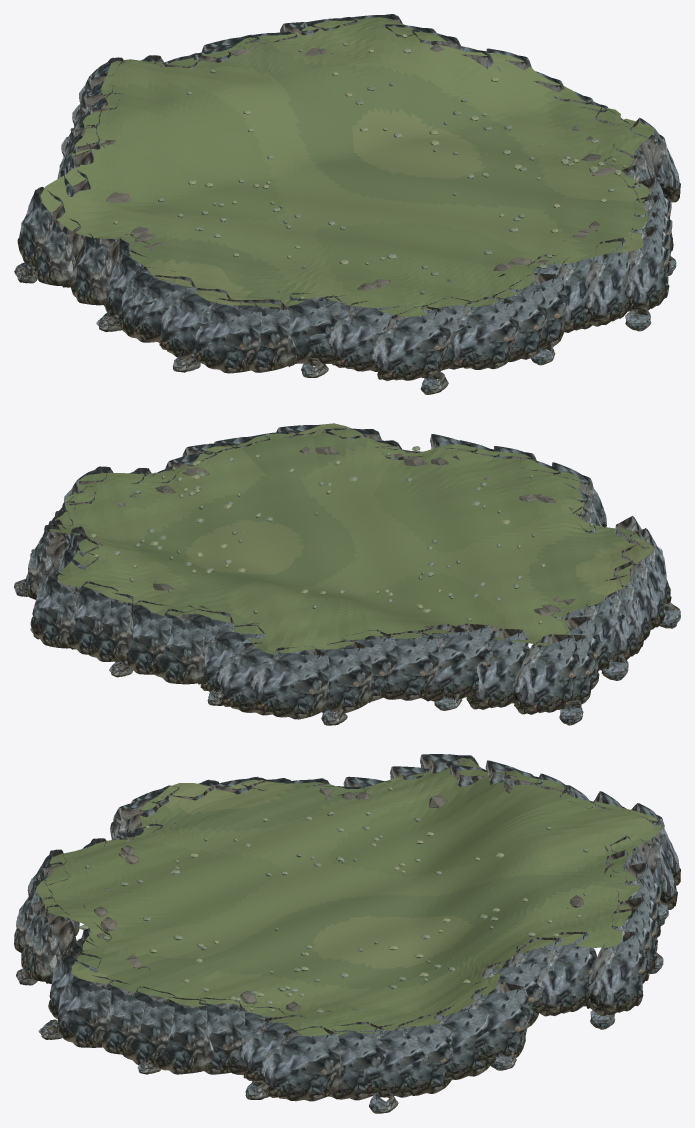
File: ValoriaEnvironmentCandidate.glb
The picture shows the model from 3 angles, top to bottom: view 1: azimuth 30°, elevation 25°; view 2: azimuth 150°, elevation 25°; view 3: azimuth 270°, elevation 25°; orthographic projection. The views are drawn at different scales.
Visible parts, largest first — view 1: Valoria Highlands - Blender sculpted environment, CC0 directed cliff course 36, CC0 directed cliff course 31, CC0 directed cliff course 38, CC0 directed cliff course 43, CC0 directed cliff course 35, CC0 directed cliff course 44, CC0 directed cliff course 32, CC0 directed cliff course 30, CC0 directed cliff course 25, CC0 directed cliff course 24, CC0 directed cliff course 33 (+14 smaller); view 2: Valoria Highlands - Blender sculpted environment, CC0 directed cliff course 16, CC0 directed cliff course 23, CC0 directed cliff course 22, CC0 directed cliff course 17, CC0 directed cliff course 21, CC0 directed cliff course 19, CC0 directed cliff course 12, CC0 directed cliff course 08, CC0 directed cliff course 15, CC0 directed cliff course 11, CC0 directed cliff course 10 (+14 smaller); view 3: Valoria Highlands - Blender sculpted environment, CC0 directed cliff course 51, CC0 directed cliff course 08, CC0 directed cliff course 04, CC0 directed cliff course 07, CC0 directed cliff course 44, CC0 directed cliff course 47, CC0 directed cliff course 02, CC0 directed cliff course 01, CC0 directed cliff course 00, CC0 directed cliff course 03, CC0 directed cliff course 46 (+17 smaller).
Part boxes in pixels (x1,y1,x2,y2): Valoria Highlands - Blender sculpted environment: [40, 17, 654, 316]; CC0 directed cliff course 36: [370, 305, 451, 381]; CC0 directed cliff course 31: [195, 298, 262, 373]; CC0 directed cliff course 38: [452, 296, 519, 369]; CC0 directed cliff course 43: [581, 237, 633, 326]; CC0 directed cliff course 35: [327, 300, 399, 371]; CC0 directed cliff course 44: [624, 225, 669, 313]; CC0 directed cliff course 32: [237, 299, 297, 372]; CC0 directed cliff course 30: [159, 287, 233, 363]; CC0 directed cliff course 25: [70, 233, 119, 305]; CC0 directed cliff course 24: [35, 218, 84, 287]; CC0 directed cliff course 33: [287, 293, 342, 366]; Valoria Highlands - Blender sculpted environment: [49, 423, 653, 654]; CC0 directed cliff course 16: [250, 646, 329, 719]; CC0 directed cliff course 23: [512, 634, 579, 714]; CC0 directed cliff course 22: [466, 628, 529, 709]; CC0 directed cliff course 17: [317, 640, 375, 712]; CC0 directed cliff course 21: [426, 623, 494, 701]; CC0 directed cliff course 19: [382, 630, 439, 700]; CC0 directed cliff course 12: [154, 608, 206, 684]; CC0 directed cliff course 08: [30, 571, 80, 649]; CC0 directed cliff course 15: [216, 642, 297, 715]; CC0 directed cliff course 11: [120, 600, 173, 674]; CC0 directed cliff course 10: [89, 592, 135, 661]; Valoria Highlands - Blender sculpted environment: [36, 758, 661, 1040]; CC0 directed cliff course 51: [260, 1026, 344, 1101]; CC0 directed cliff course 08: [586, 931, 646, 1015]; CC0 directed cliff course 04: [463, 981, 529, 1063]; CC0 directed cliff course 07: [536, 931, 597, 1016]; CC0 directed cliff course 44: [56, 975, 113, 1047]; CC0 directed cliff course 47: [155, 997, 214, 1074]; CC0 directed cliff course 02: [396, 1015, 454, 1095]; CC0 directed cliff course 01: [361, 1023, 428, 1097]; CC0 directed cliff course 00: [328, 1021, 386, 1100]; CC0 directed cliff course 03: [434, 1004, 490, 1079]; CC0 directed cliff course 46: [123, 986, 175, 1066].
Size of the model in its own units: 90.99 by 16.55 by 87.46.
Materials: 13 (6 with a texture image).
